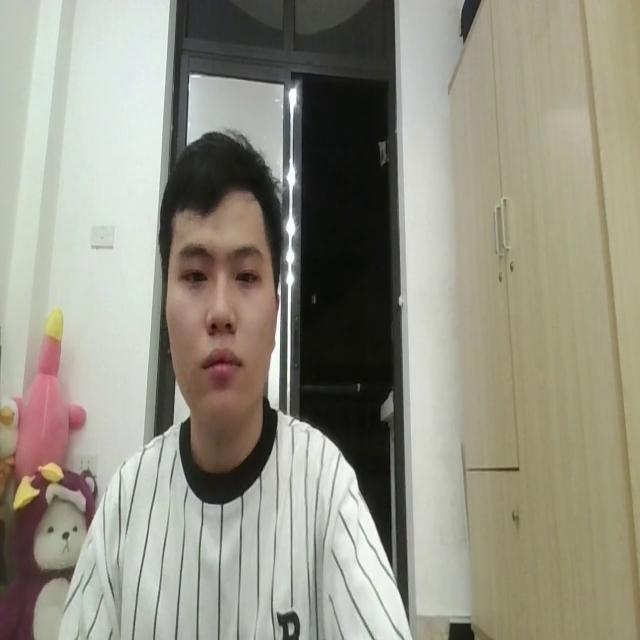student: (59, 124, 412, 640)
